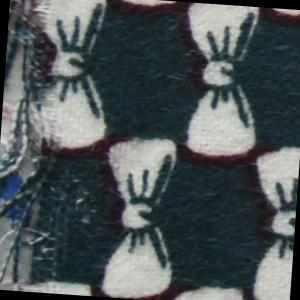Damage: (1, 1, 112, 297)
